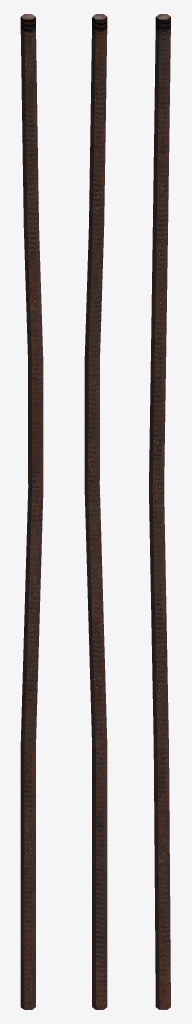
File: sm_Ventilation_03_02.fbx
The picture shows the model from 3 angles, left to right: view 1: azimuth 30°, elevation 25°; view 2: azimuth 210°, elevation 25°; view 3: azimuth 270°, elevation 25°; orthographic projection.
Parts seen in each view (by area): view 1: sm_Ventilation_03_02_LOD0; view 2: sm_Ventilation_03_02_LOD0; view 3: sm_Ventilation_03_02_LOD0.
Part boxes in pixels (bbox=[...]): sm_Ventilation_03_02_LOD0: bbox=[20, 14, 43, 1009]; sm_Ventilation_03_02_LOD0: bbox=[84, 14, 107, 1009]; sm_Ventilation_03_02_LOD0: bbox=[149, 14, 170, 1009].
Bounding box in the file's own units: 1.83 × 2.03 × 100.
